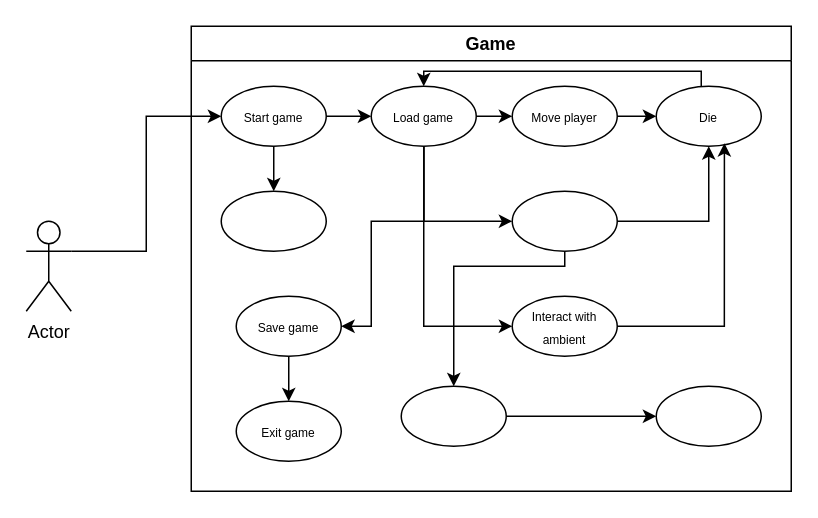
This 818x518 diagram has some shape labels left out. The box of each missing label's shape, as (x1, y1, x2, y2) in pixels:
Change settings: (220, 190, 326, 251)
Defeat final boss: (400, 385, 506, 446)
End story: (655, 385, 761, 446)
Fight enemy: (511, 190, 617, 251)
